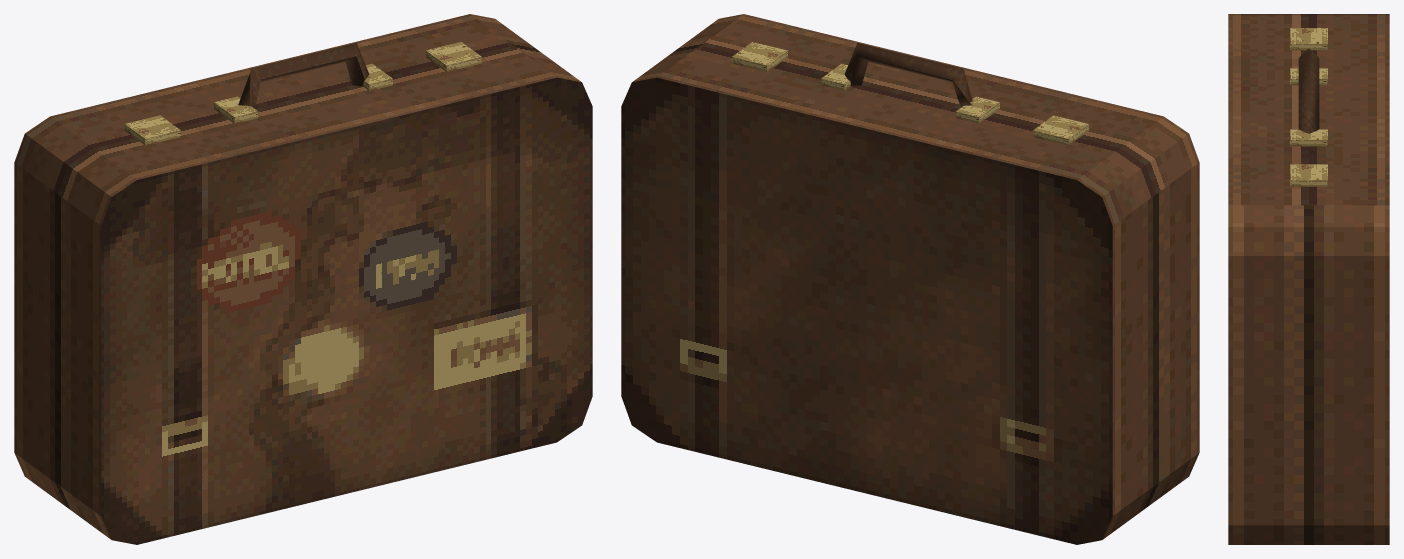
The model's file is suitcase_old.glb.
3 renders of one model, left to right at view 1: azimuth 30°, elevation 25°; view 2: azimuth 150°, elevation 25°; view 3: azimuth 270°, elevation 25°, orthographic. The views are drawn at different scales.
Parts seen in each view (by area): view 1: suitcase_old; view 2: suitcase_old; view 3: suitcase_old.
Boxes of the visible parts, bbox=[...] form: suitcase_old: bbox=[14, 14, 592, 544]; suitcase_old: bbox=[621, 14, 1199, 544]; suitcase_old: bbox=[1228, 14, 1389, 544].
Size of the model in its own units: 0.62 by 0.4898 by 0.19.
Materials: 1 (1 with a texture image).
